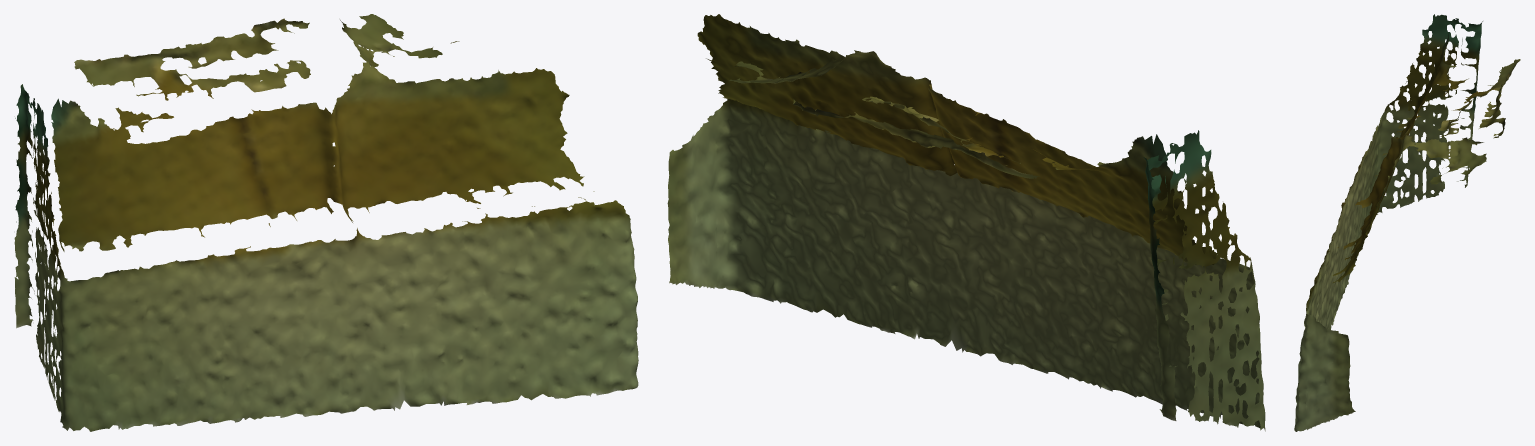
The model's file is color_model_f005_20260206_132732.obj.
3 views of the same model, side by side, from view 1: azimuth 30°, elevation 25°; view 2: azimuth 150°, elevation 25°; view 3: azimuth 270°, elevation 25° (orthographic). The views are drawn at different scales.
Bounding box in the file's own units: 1.78 × 1.05 × 0.8982.
